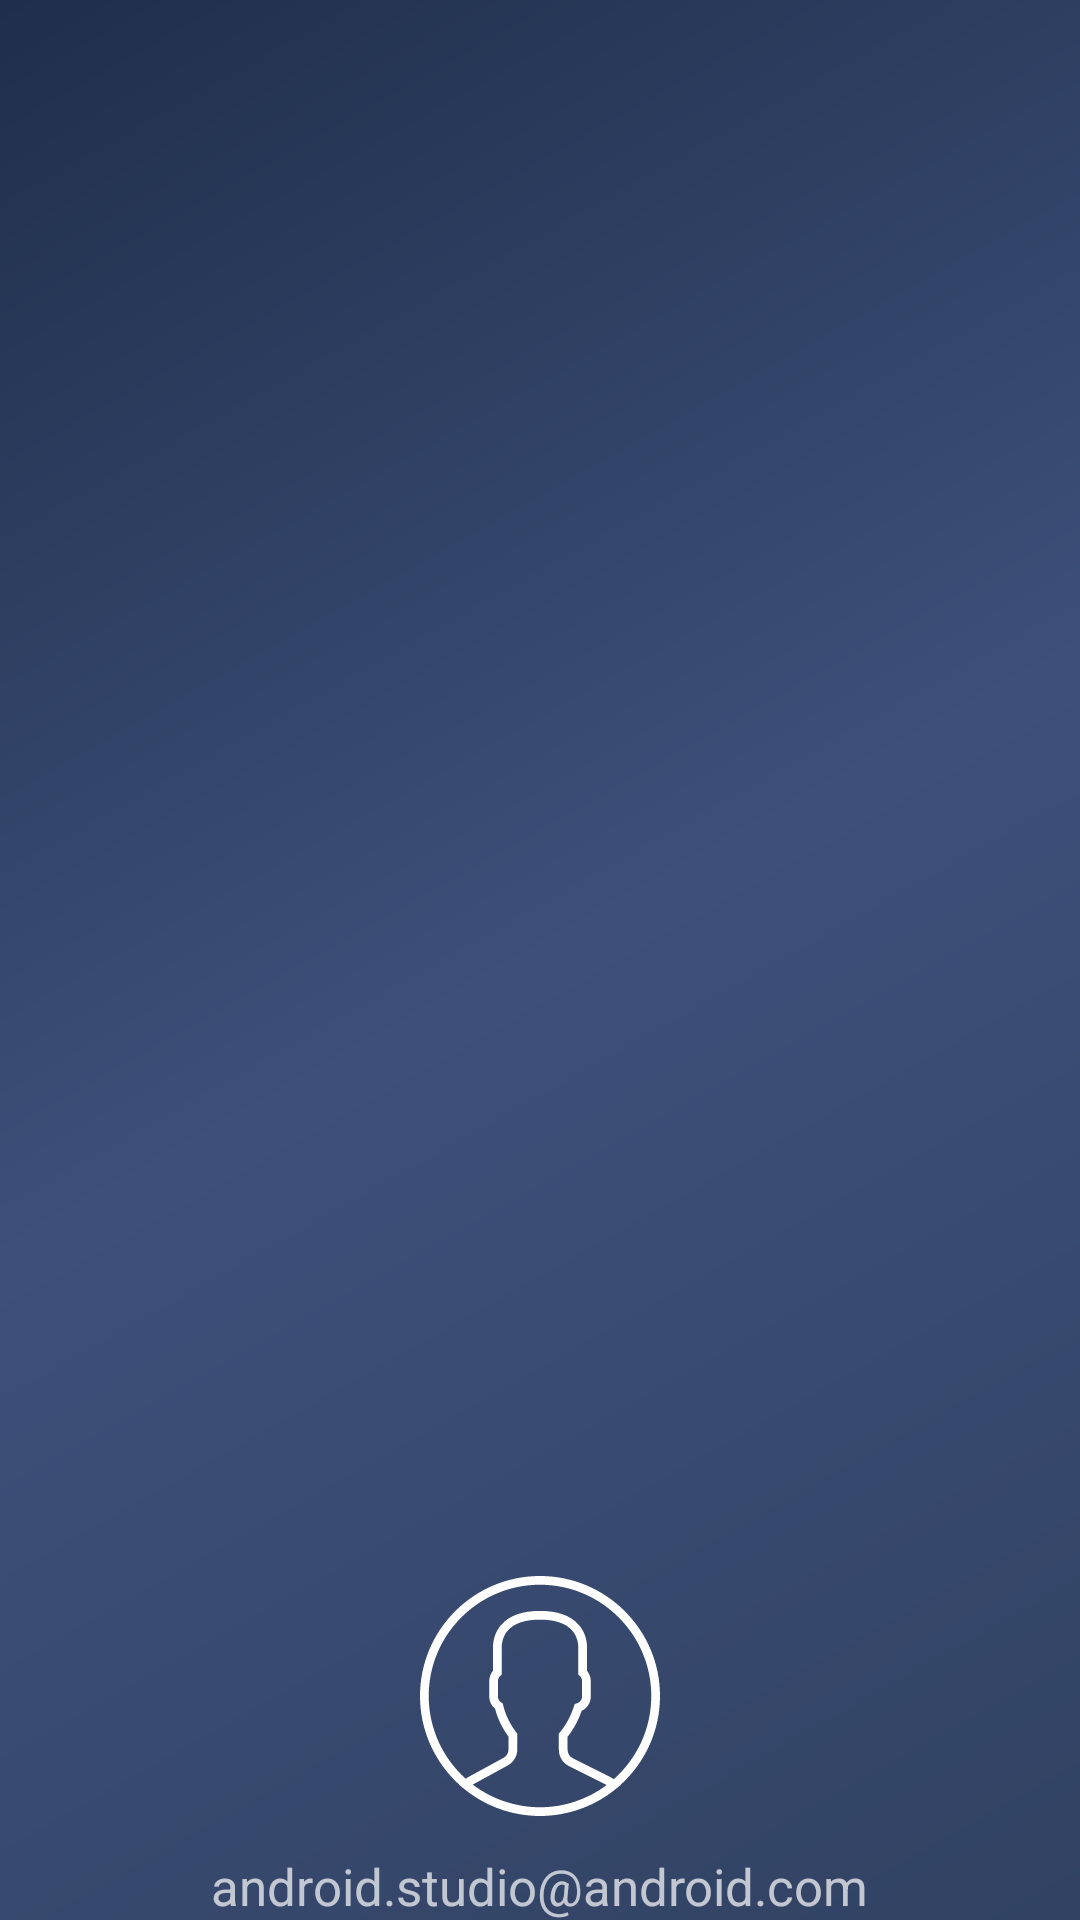

Screen size 1080px x 1920px. Icon name, then its center in pixels as (x,y):
userbar: (540,1696)
